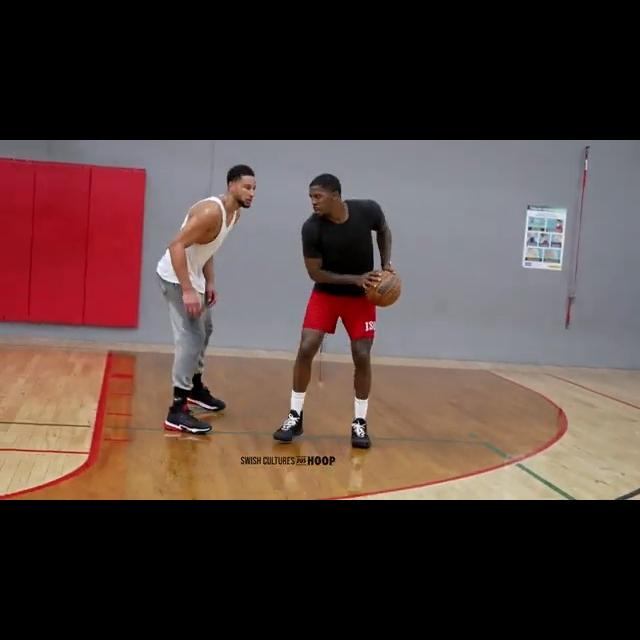basketball: (363, 267, 401, 307)
person: (155, 157, 261, 437)
